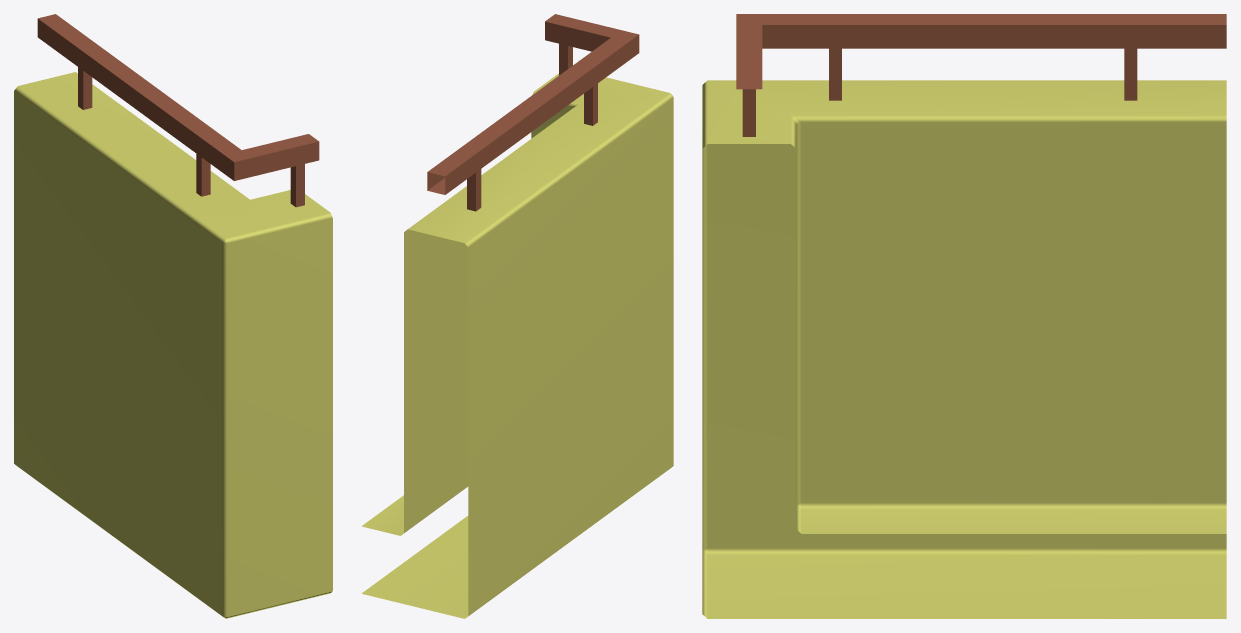
The model's file is DBK_Balcony_C_End_Mirror.fbx.
3 renders of one model, left to right at view 1: azimuth 30°, elevation 25°; view 2: azimuth 150°, elevation 25°; view 3: azimuth 270°, elevation 25°, orthographic. The views are drawn at different scales.
Parts seen in each view (by area): view 1: DBK_Balcony_C_End_Mirror, DBK_Balcony_C_End_Metal_Mirror; view 2: DBK_Balcony_C_End_Mirror, DBK_Balcony_C_End_Metal_Mirror; view 3: DBK_Balcony_C_End_Mirror, DBK_Balcony_C_End_Metal_Mirror.
Part boxes in pixels (left/top/right/bottom): DBK_Balcony_C_End_Mirror: left=14, top=72, right=332, bottom=618; DBK_Balcony_C_End_Metal_Mirror: left=37, top=14, right=319, bottom=207; DBK_Balcony_C_End_Mirror: left=361, top=73, right=673, bottom=618; DBK_Balcony_C_End_Metal_Mirror: left=427, top=14, right=639, bottom=211; DBK_Balcony_C_End_Mirror: left=702, top=80, right=1226, bottom=618; DBK_Balcony_C_End_Metal_Mirror: left=736, top=14, right=1226, bottom=136.
Size of the model in its own units: 30 by 117 by 101.
